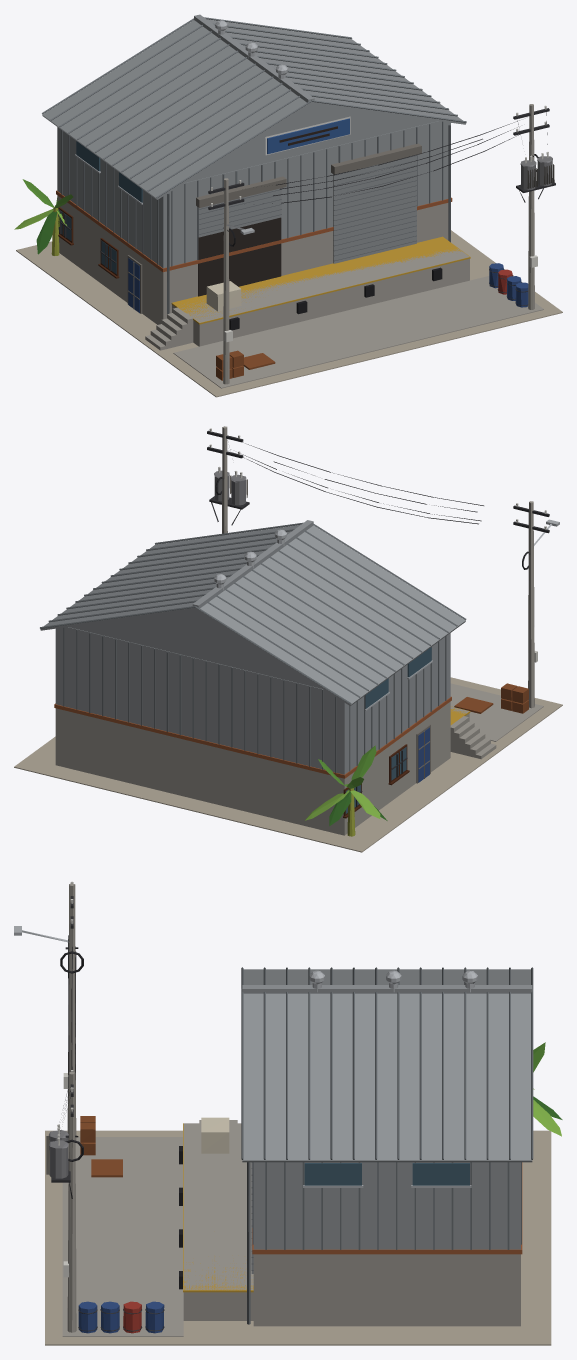
The model's file is factory_2.glb.
3 renders of one model, top to bottom at view 1: azimuth 30°, elevation 25°; view 2: azimuth 150°, elevation 25°; view 3: azimuth 270°, elevation 25°, orthographic. The views are drawn at different scales.
Parts seen in each view (by area): view 1: body, windows; view 2: body, windows; view 3: body, windows.
Boxes of the visible parts, x1,y1,x2,y2 form: body: (14, 14, 562, 397); windows: (58, 141, 281, 296); body: (14, 426, 562, 852); windows: (345, 647, 431, 813); body: (14, 881, 562, 1345); windows: (304, 1163, 469, 1185).
Size of the model in its own units: 16.37 by 9.26 by 17.24.
